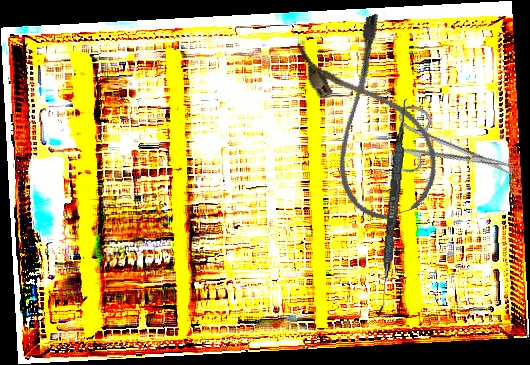Cannula: (291, 11, 451, 229)
Iris Scissors: (382, 102, 523, 204)
Spatula Surgical: (377, 97, 409, 319)
